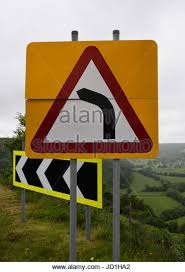Bend_to_left: (29, 46, 153, 153)
